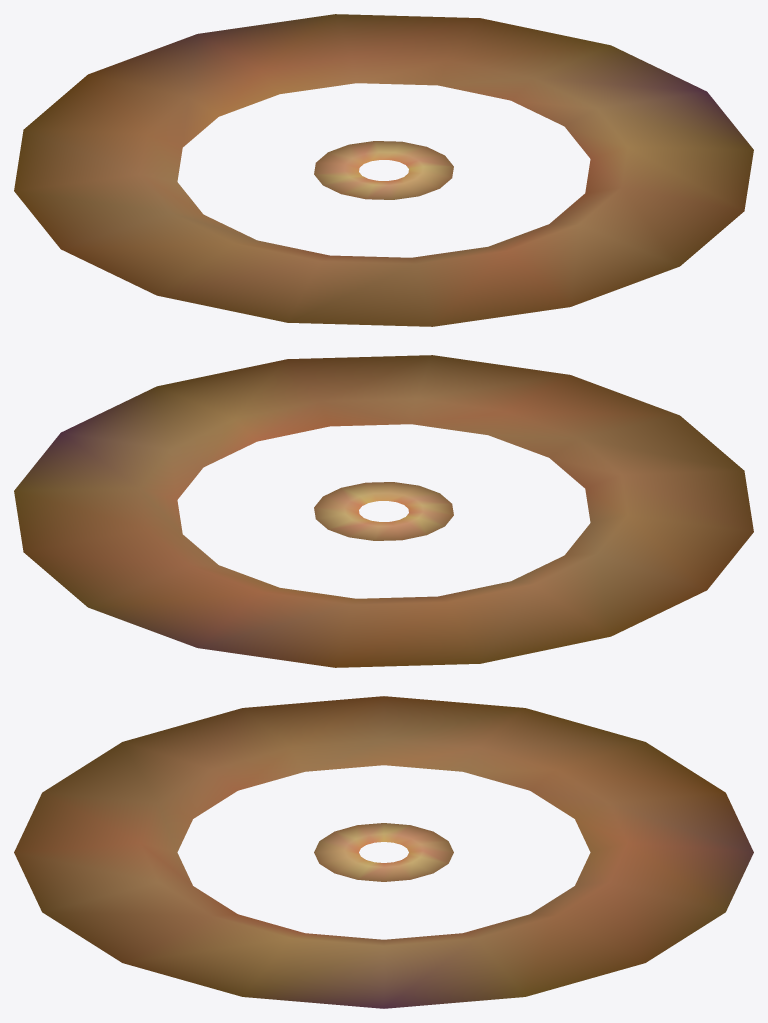
The model's file is space-nebulae-ring-nebula_v3.glb.
3 views of the same model, one above another, from view 1: azimuth 30°, elevation 25°; view 2: azimuth 150°, elevation 25°; view 3: azimuth 270°, elevation 25° (orthographic).
Visible parts, largest first — view 1: Ring Nebula_v3; view 2: Ring Nebula_v3; view 3: Ring Nebula_v3.
Boxes of the visible parts, <box> form: Ring Nebula_v3: <box>14,14,753,326</box>; Ring Nebula_v3: <box>14,355,753,667</box>; Ring Nebula_v3: <box>14,696,753,1008</box>.
Size of the model in its own units: 0.5 by 0.0142 by 0.5.
